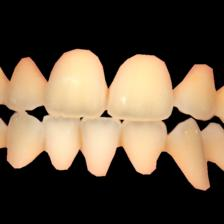cavity: (75, 128, 87, 148), (117, 130, 127, 147), (162, 133, 170, 151), (105, 88, 112, 103)
tooth: (49, 50, 107, 118), (111, 54, 172, 117), (121, 119, 170, 176), (171, 61, 217, 121), (169, 119, 203, 190), (81, 116, 121, 176), (44, 116, 85, 171), (6, 114, 43, 170), (12, 56, 45, 110), (202, 122, 224, 173)
